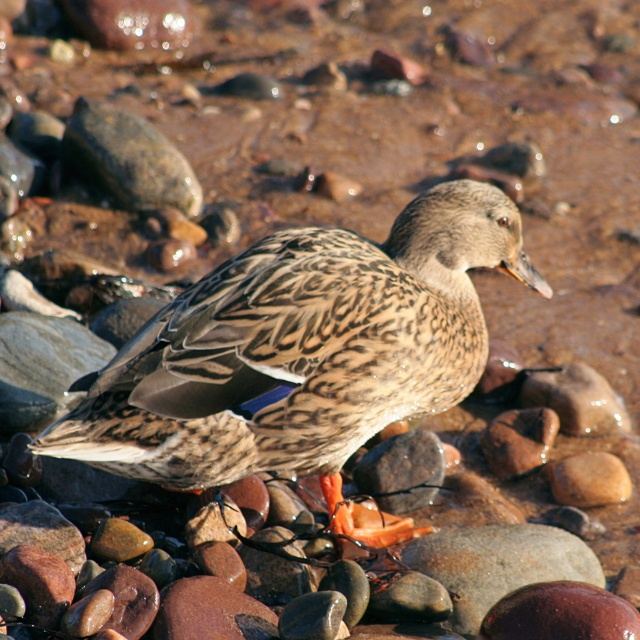Duck: (14, 171, 559, 552)
